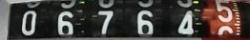digits: (135, 8, 156, 38), (56, 9, 76, 38), (96, 9, 114, 37), (212, 0, 233, 23), (178, 10, 195, 38), (21, 10, 36, 35)
